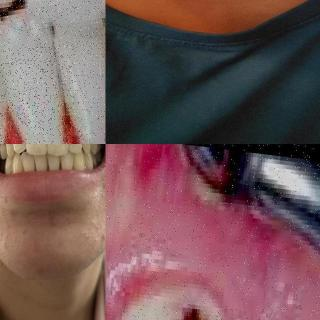Gum Swelling: (186, 231, 319, 320), (105, 183, 182, 320)
cavities: (152, 289, 226, 320)
maligned: (22, 150, 38, 172), (27, 144, 47, 158), (11, 144, 26, 154)
